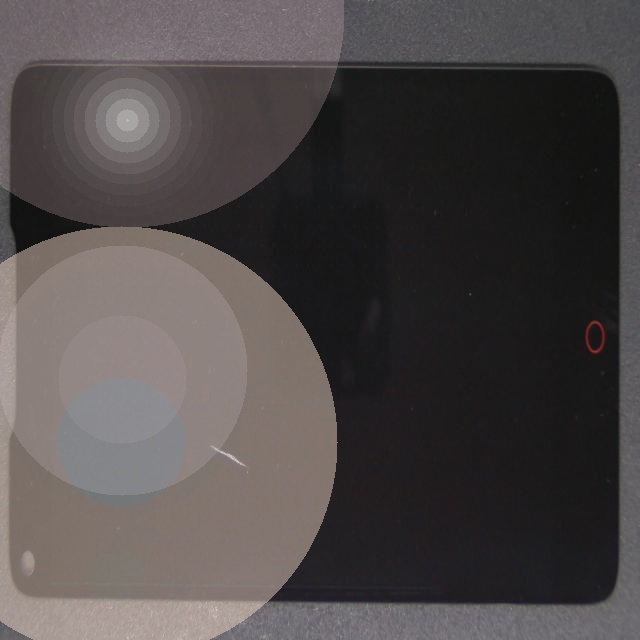scratch: (157, 244, 361, 640)
